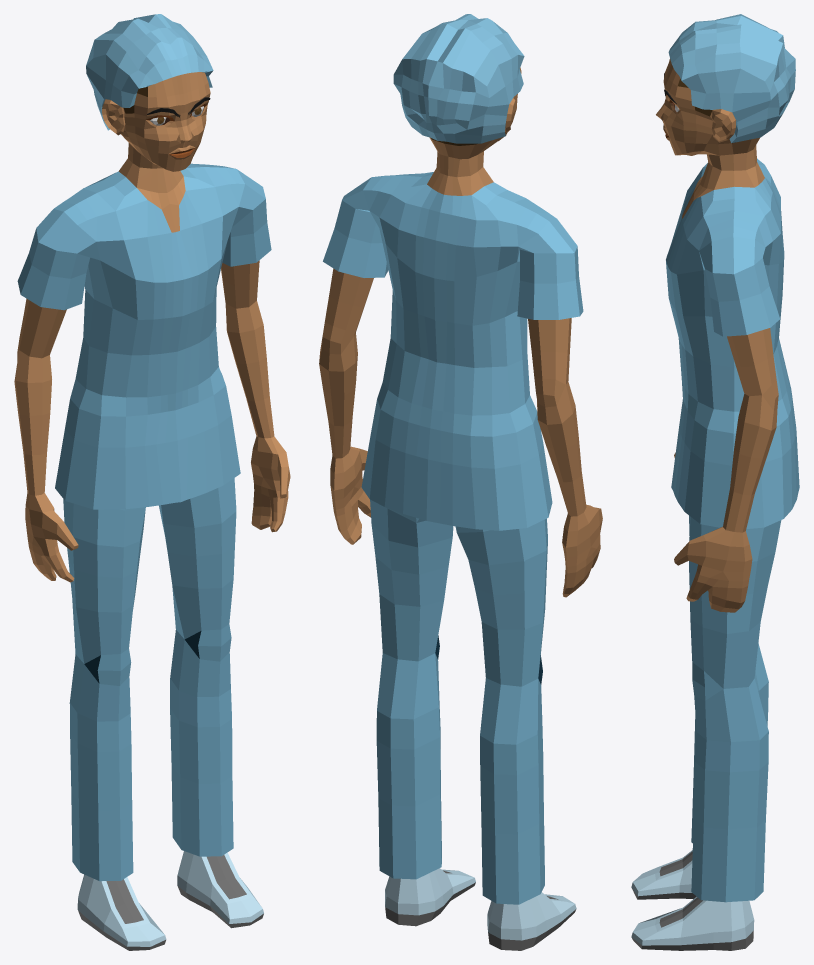
The model's file is Doctor_Stand.fbx.
The picture shows the model from 3 angles, left to right: view 1: azimuth 30°, elevation 25°; view 2: azimuth 150°, elevation 25°; view 3: azimuth 270°, elevation 25°; orthographic projection. The views are drawn at different scales.
Visible parts, largest first — view 1: Doctor_Stand; view 2: Doctor_Stand; view 3: Doctor_Stand.
Boxes of the visible parts, bbox=[...] form: Doctor_Stand: bbox=[14, 14, 290, 950]; Doctor_Stand: bbox=[319, 14, 602, 950]; Doctor_Stand: bbox=[631, 14, 799, 950].
Bounding box in the file's own units: 0.3141 × 1.07 × 0.1819.
